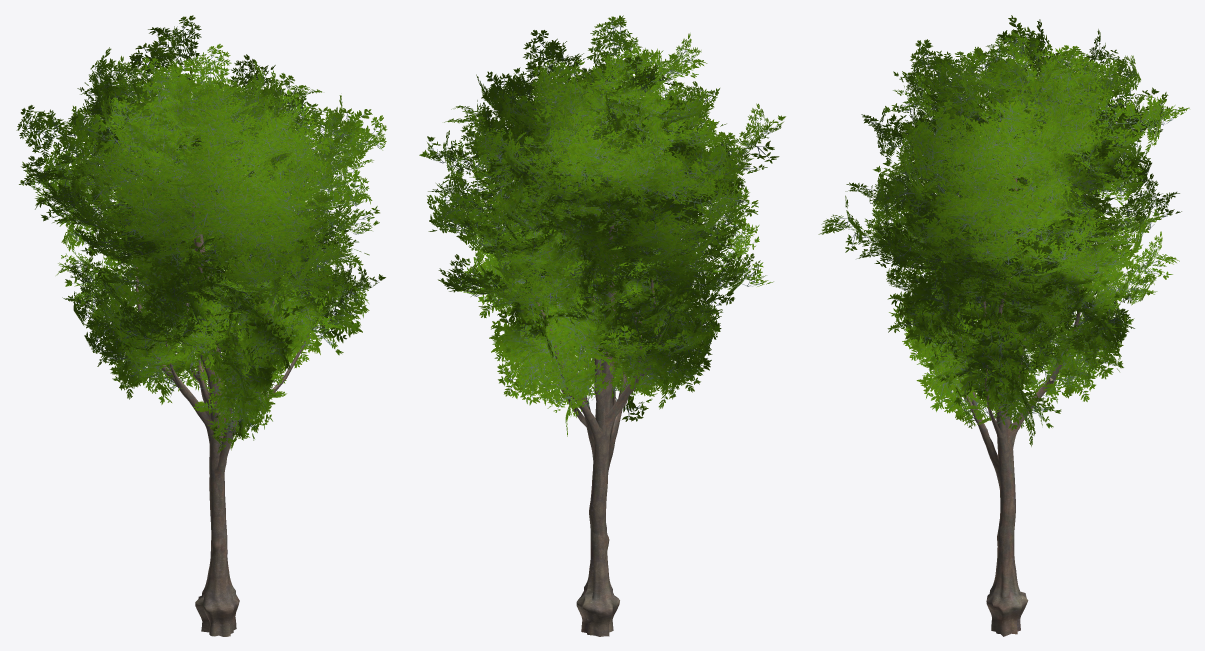
3 views of the same model, side by side, from view 1: azimuth 30°, elevation 25°; view 2: azimuth 150°, elevation 25°; view 3: azimuth 270°, elevation 25° (orthographic).
Parts seen in each view (by area): view 1: SM_Ash_Tree_01_LOD0; view 2: SM_Ash_Tree_01_LOD0; view 3: SM_Ash_Tree_01_LOD0.
Part boxes in pixels (x1=…): SM_Ash_Tree_01_LOD0: x1=16, y1=15, x2=387, y2=636; SM_Ash_Tree_01_LOD0: x1=419, y1=15, x2=785, y2=636; SM_Ash_Tree_01_LOD0: x1=818, y1=15, x2=1189, y2=636.
Size of the model in its own units: 11.46 by 19.24 by 11.33.
2 materials, 2 textured.
